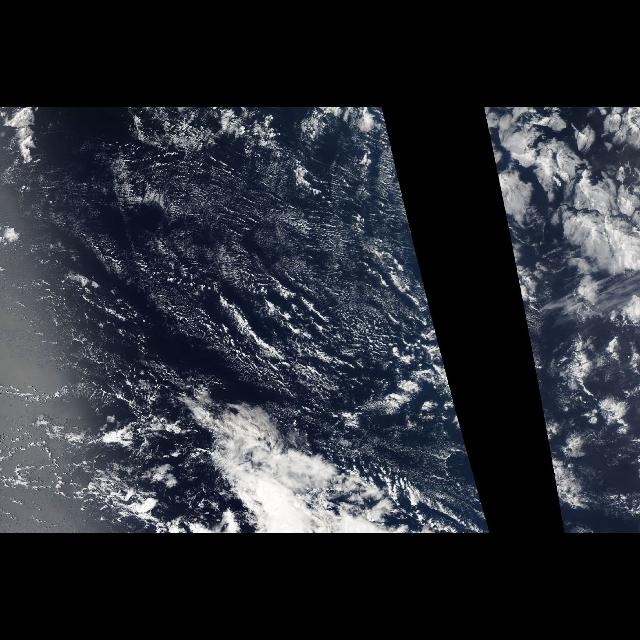Flower: (483, 107, 639, 279)
Sugar: (36, 124, 428, 398)
